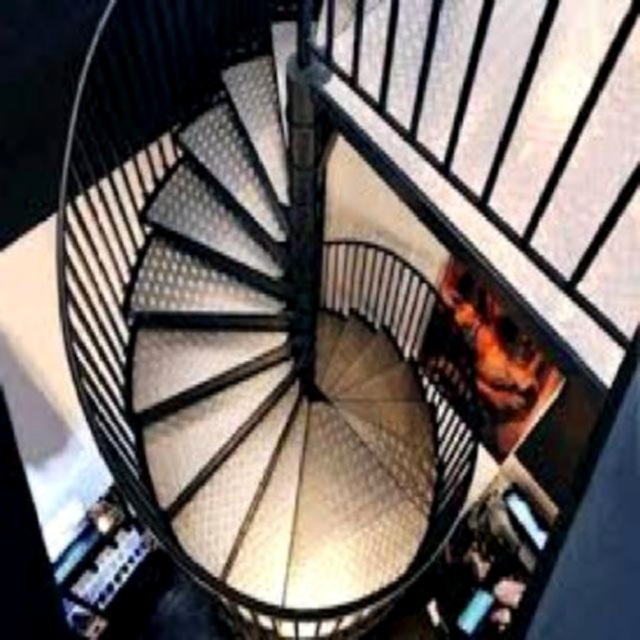stair: (69, 14, 500, 615)
